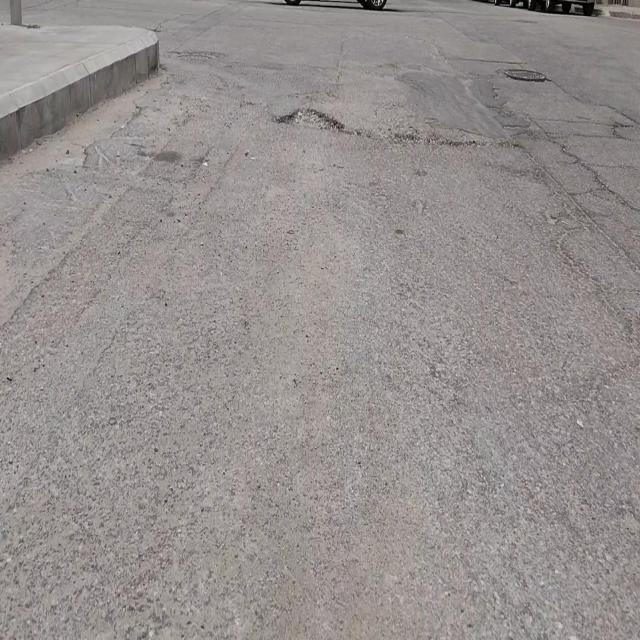Pothole: (274, 102, 344, 133)
